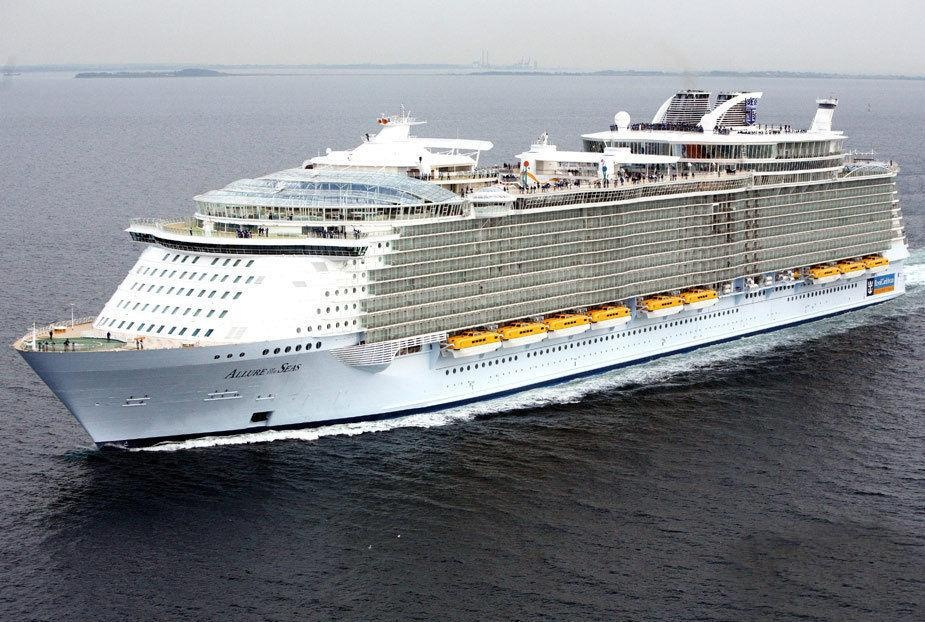youlun: (14, 66, 913, 440)
